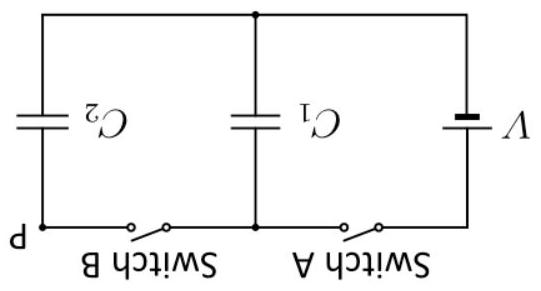Capacitor: (222, 86, 286, 163)
